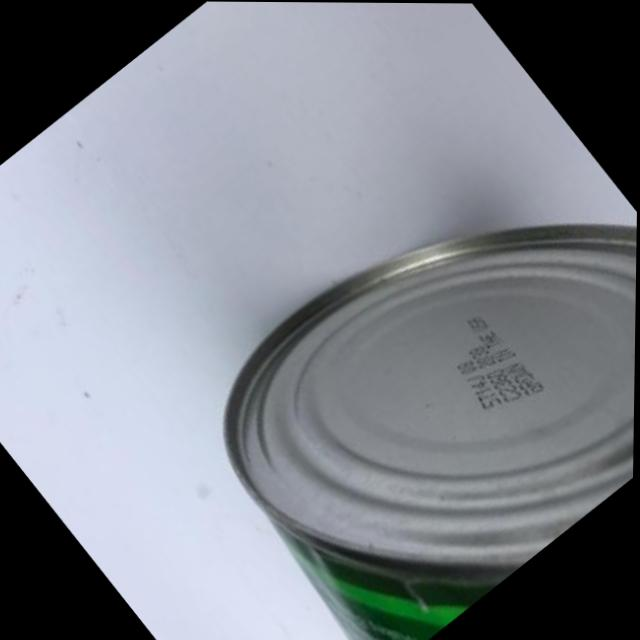metal: (147, 95, 639, 640)
